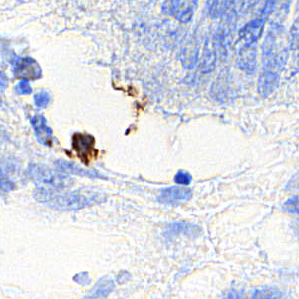Lymphocyte: (71, 130, 101, 164)
